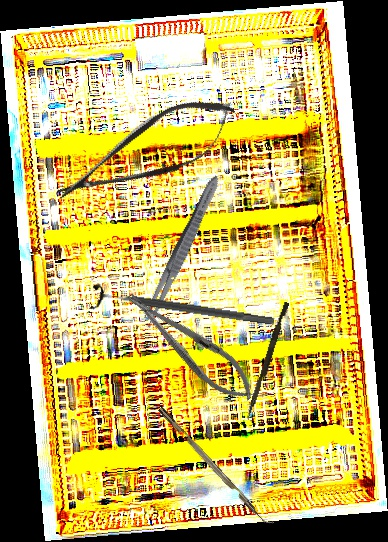Chopper: (157, 400, 277, 531)
Dressing Forceps: (138, 171, 225, 331)
Fixation Ring: (89, 282, 277, 336)
Micro Scissor: (45, 81, 248, 224)
Needle Holder: (118, 280, 264, 412)
Pusher: (245, 301, 290, 421)
